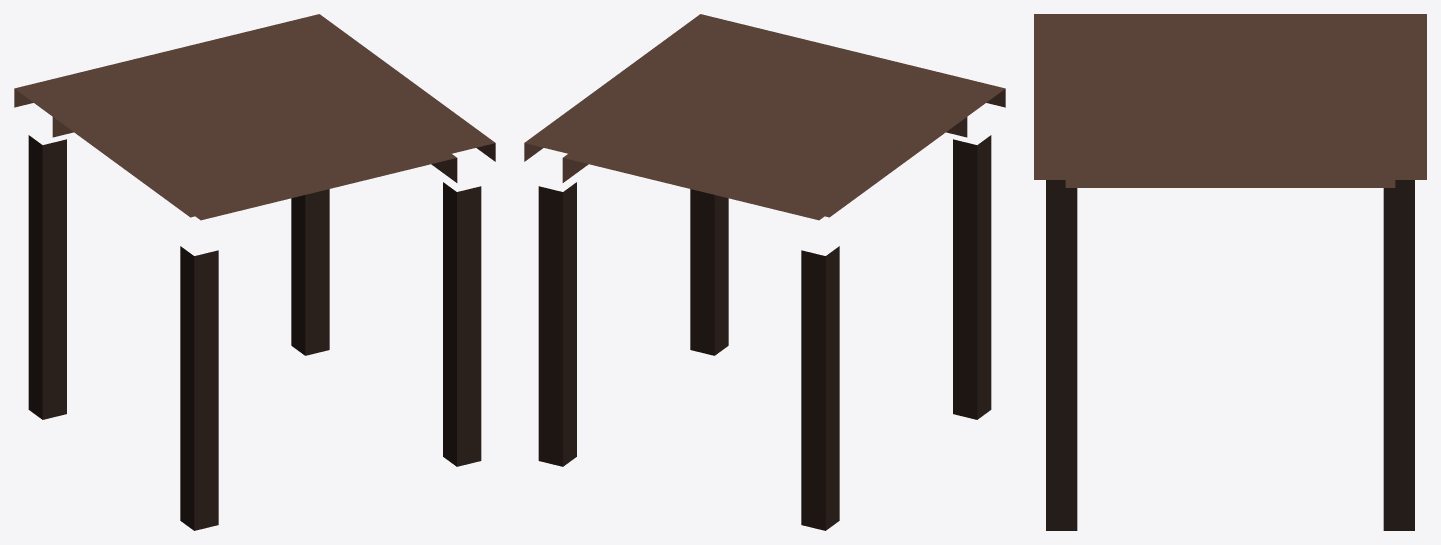
File: Table-walnut.glb
3 views of the same model, side by side, from view 1: azimuth 30°, elevation 25°; view 2: azimuth 150°, elevation 25°; view 3: azimuth 270°, elevation 25° (orthographic). The views are drawn at different scales.
Parts seen in each view (by area): view 1: Table; view 2: Table; view 3: Table.
Part boxes in pixels (<box>): Table: <box>14,14,495,530</box>; Table: <box>524,14,1005,530</box>; Table: <box>1034,14,1426,530</box>.
Bounding box in the file's own units: 1 × 1 × 1.
